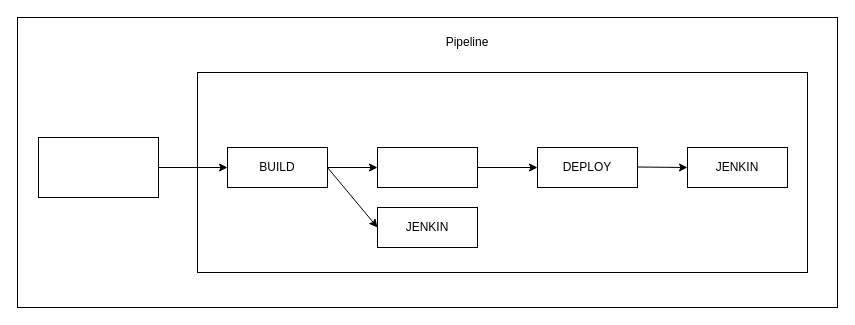
This 855x325 diagram has some shape labels left out. The shapes that lost their labels are listed below. From the top down, each one's box as (x1, y1, x2, y2) in pixels, then its label:
(38, 136, 158, 198): triger
(376, 146, 478, 188): INTERMEDIARY
